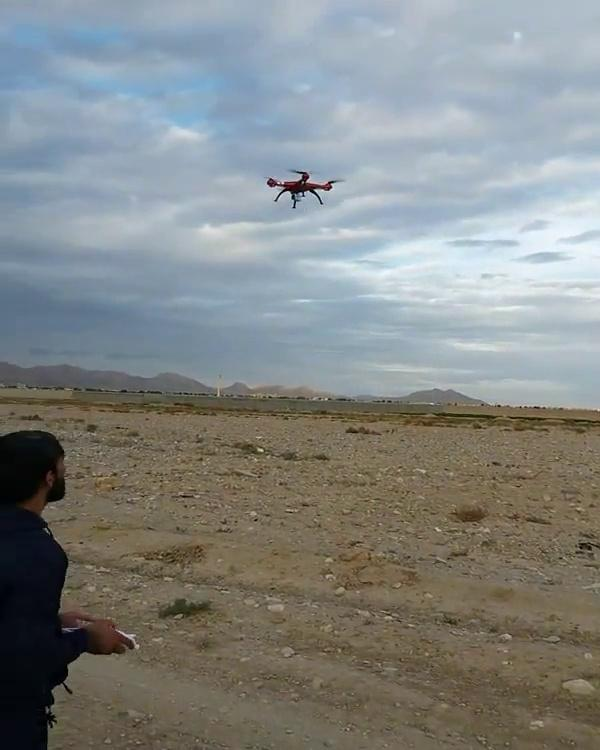drone: (254, 164, 354, 213)
